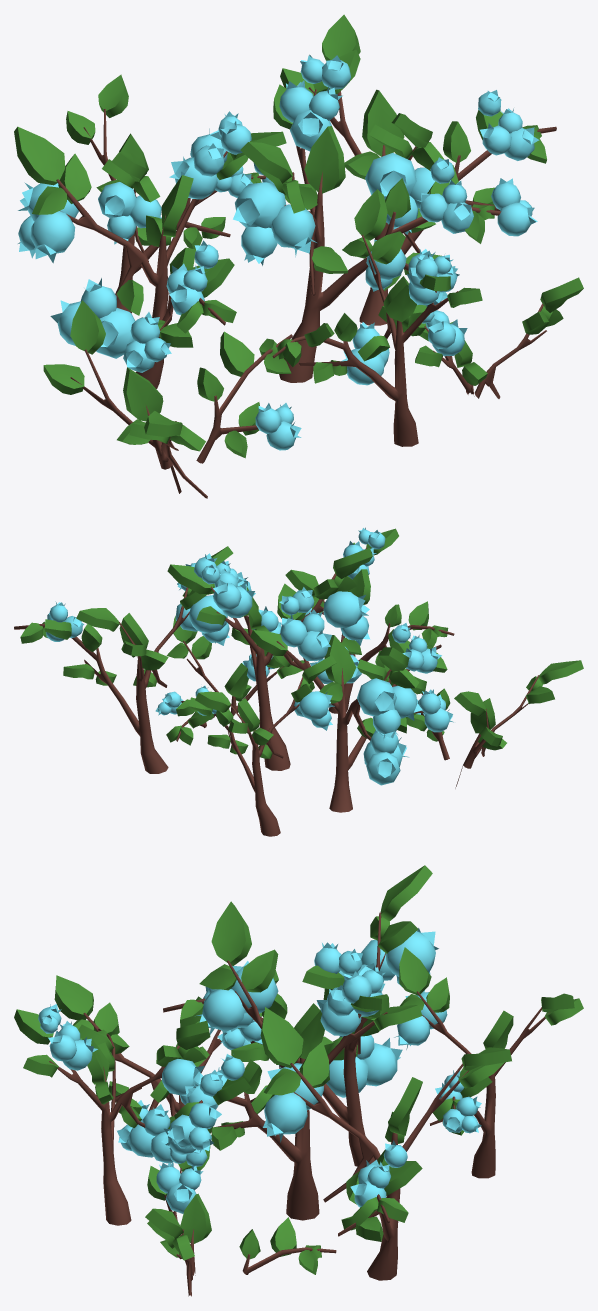
Rendered from s_blueberry.fbx.
3 renders of one model, top to bottom at view 1: azimuth 30°, elevation 25°; view 2: azimuth 150°, elevation 25°; view 3: azimuth 270°, elevation 25°, orthographic. The views are drawn at different scales.
Visible parts, largest first — view 1: s_blueberry_leaves, s_blueberry_berries, s_blueberry_branch; view 2: s_blueberry_leaves, s_blueberry_berries, s_blueberry_branch; view 3: s_blueberry_leaves, s_blueberry_berries, s_blueberry_branch.
Part boxes in pixels (box(x1,y1,x2,y2)): s_blueberry_leaves: box(14, 14, 583, 458); s_blueberry_berries: box(18, 54, 539, 450); s_blueberry_branch: box(56, 87, 556, 498); s_blueberry_leaves: box(20, 528, 583, 758); s_blueberry_berries: box(46, 527, 453, 785); s_blueberry_branch: box(14, 547, 539, 836); s_blueberry_leaves: box(14, 865, 583, 1274); s_blueberry_berries: box(38, 928, 481, 1213); s_blueberry_branch: box(49, 912, 550, 1296).
Size of the model in its own units: 165 by 144 by 85.4.
